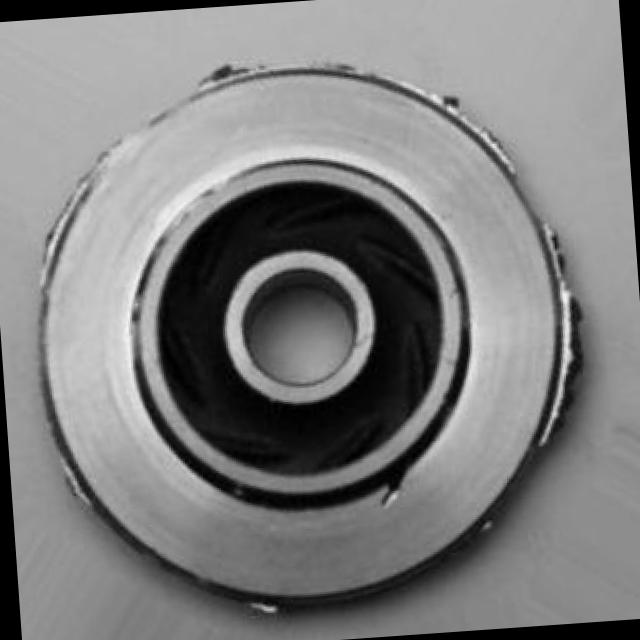Defect: (422, 80, 483, 128)
